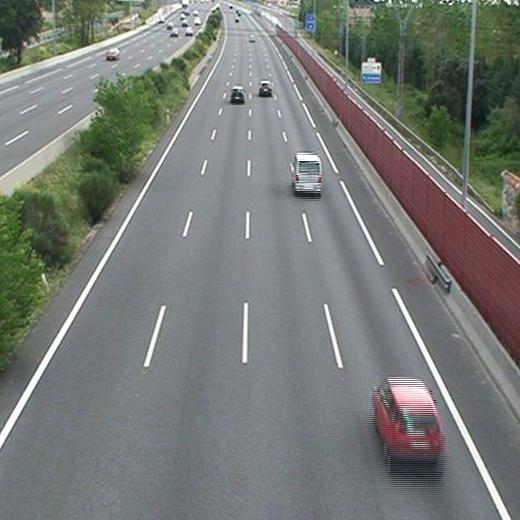car: (375, 378, 443, 458), (230, 87, 245, 101), (259, 81, 271, 94)
van: (295, 153, 322, 192)
